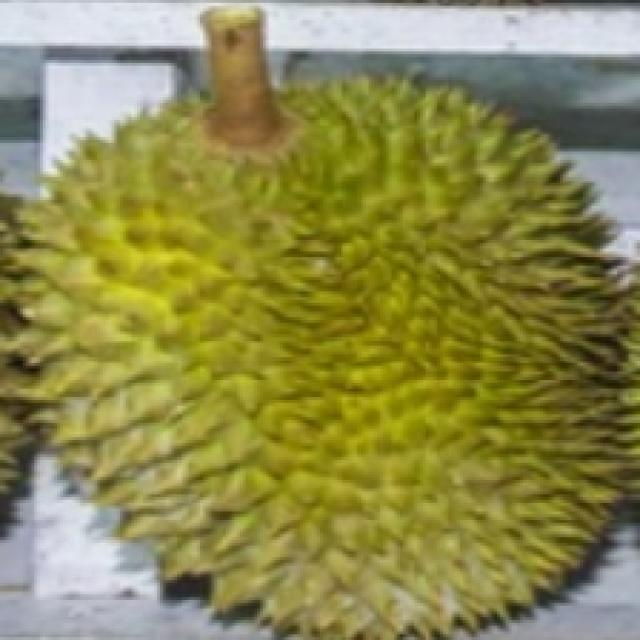d197: (20, 71, 626, 640)
